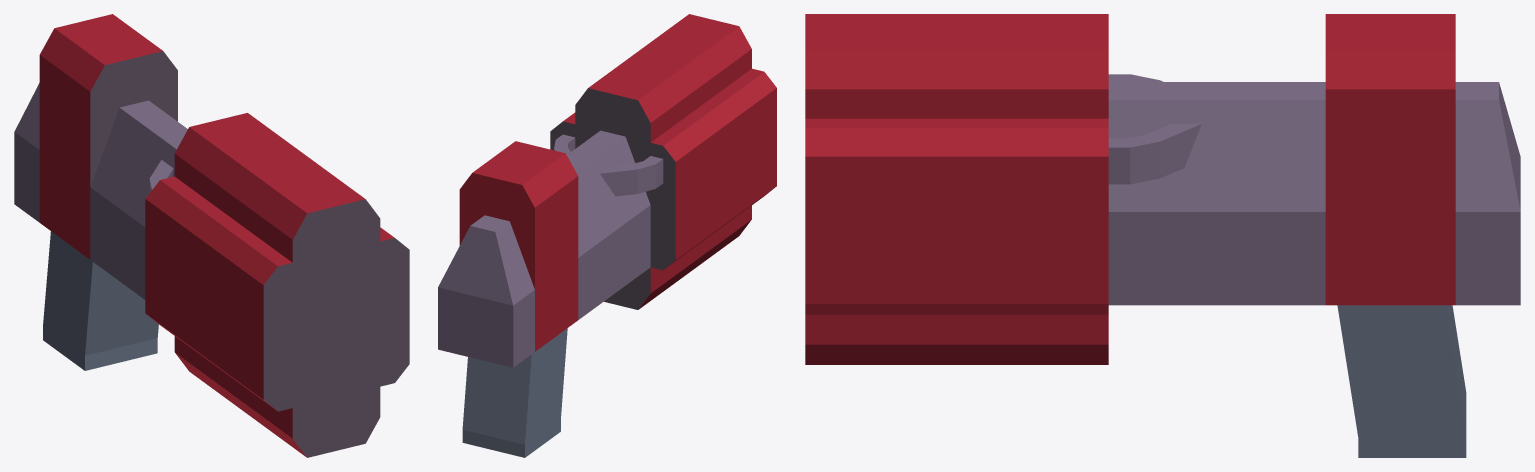
Rendered from Weapon.glb.
3 renders of one model, left to right at view 1: azimuth 30°, elevation 25°; view 2: azimuth 150°, elevation 25°; view 3: azimuth 270°, elevation 25°, orthographic. The views are drawn at different scales.
Parts seen in each view (by area): view 1: cuboid; view 2: cuboid; view 3: cuboid.
Part boxes in pixels (bbox=[...]): cuboid: bbox=[14, 14, 409, 457]; cuboid: bbox=[438, 14, 776, 457]; cuboid: bbox=[805, 14, 1520, 457].
Bounding box in the file's own units: 0.1562 × 0.3203 × 0.5156.
